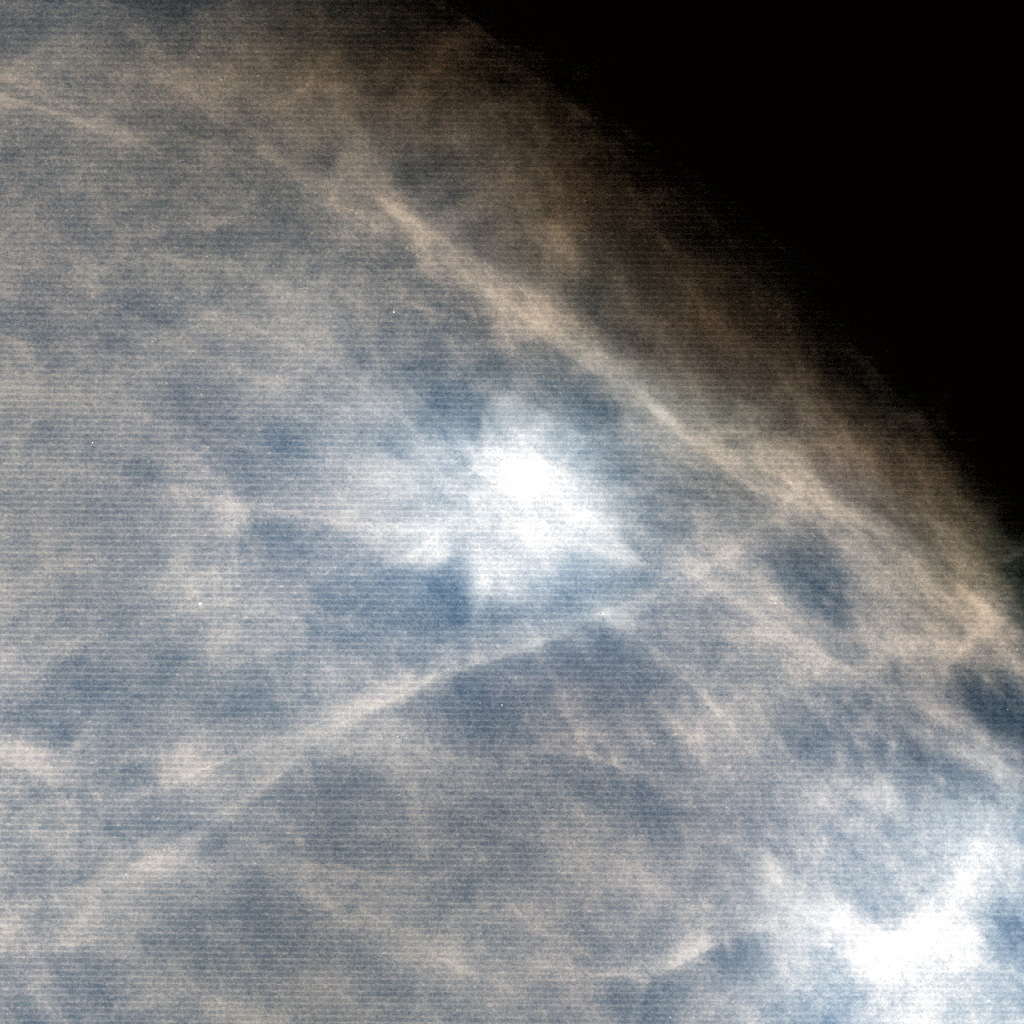tumor: (406, 398, 618, 626)
